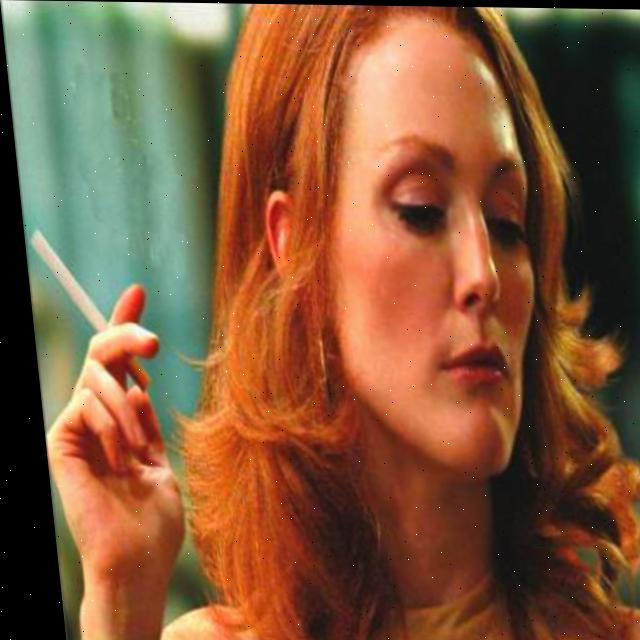cigarette: (22, 223, 146, 399)
